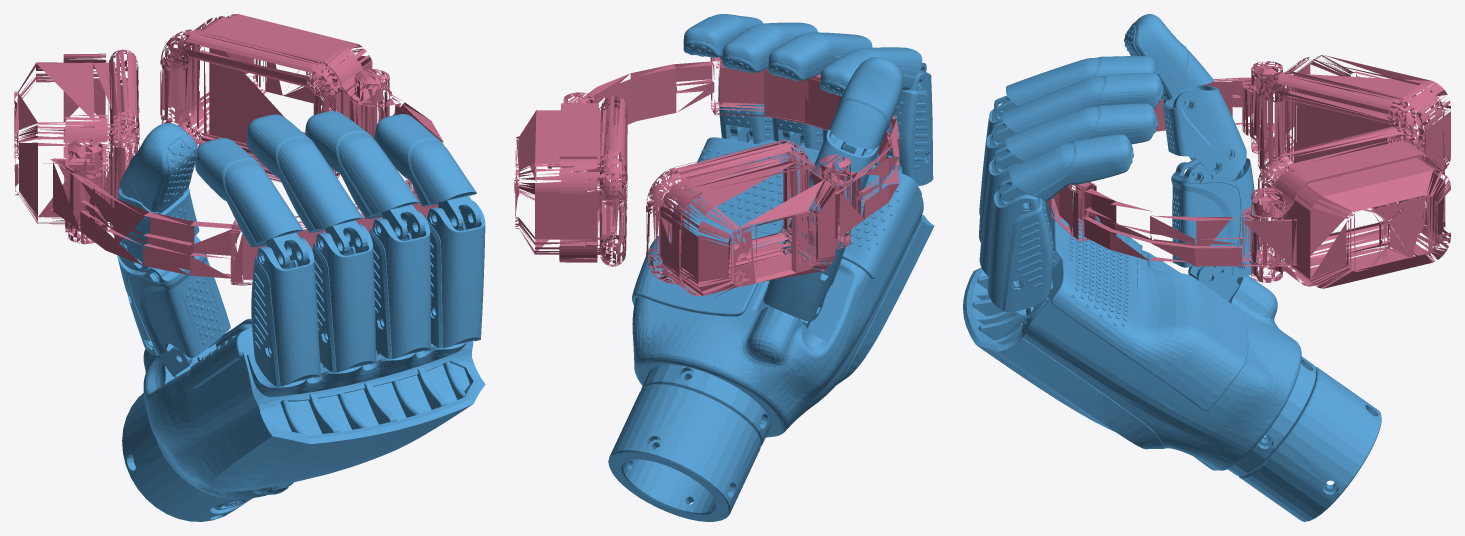
3 views of the same model, side by side, from view 1: azimuth 30°, elevation 25°; view 2: azimuth 150°, elevation 25°; view 3: azimuth 270°, elevation 25° (orthographic). The views are drawn at different scales.
Visible parts, largest first — view 1: 0; view 2: 0; view 3: 0.
Part boxes in pixels (bbox=[...]): 0: bbox=[14, 14, 485, 521]; 0: bbox=[514, 14, 934, 521]; 0: bbox=[963, 14, 1450, 521].
Size of the model in its own units: 0.1306 by 0.18 by 0.1806.
